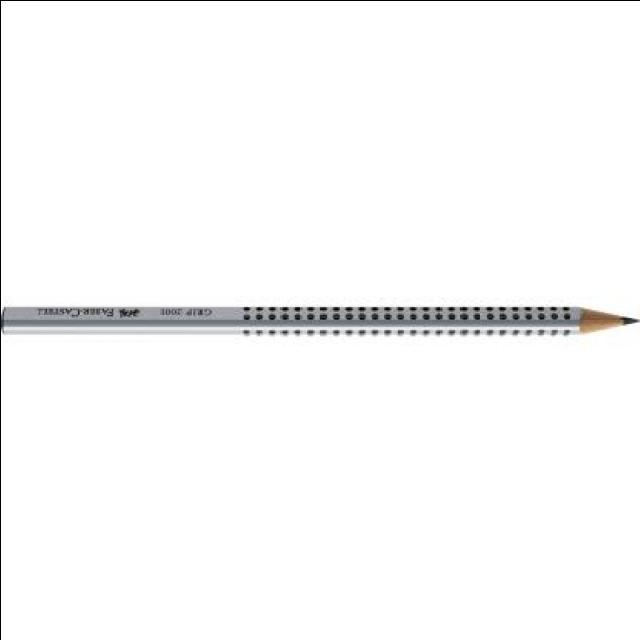Pencil: (551, 292, 640, 350)
